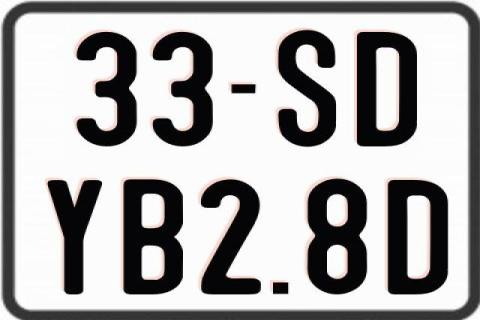0: (306, 176, 371, 296), (200, 179, 264, 296), (77, 32, 137, 149), (153, 30, 213, 146)
B: (122, 178, 187, 298)
D: (356, 31, 421, 147), (388, 178, 448, 298)
S: (278, 27, 337, 144)
Y: (46, 179, 101, 295)
